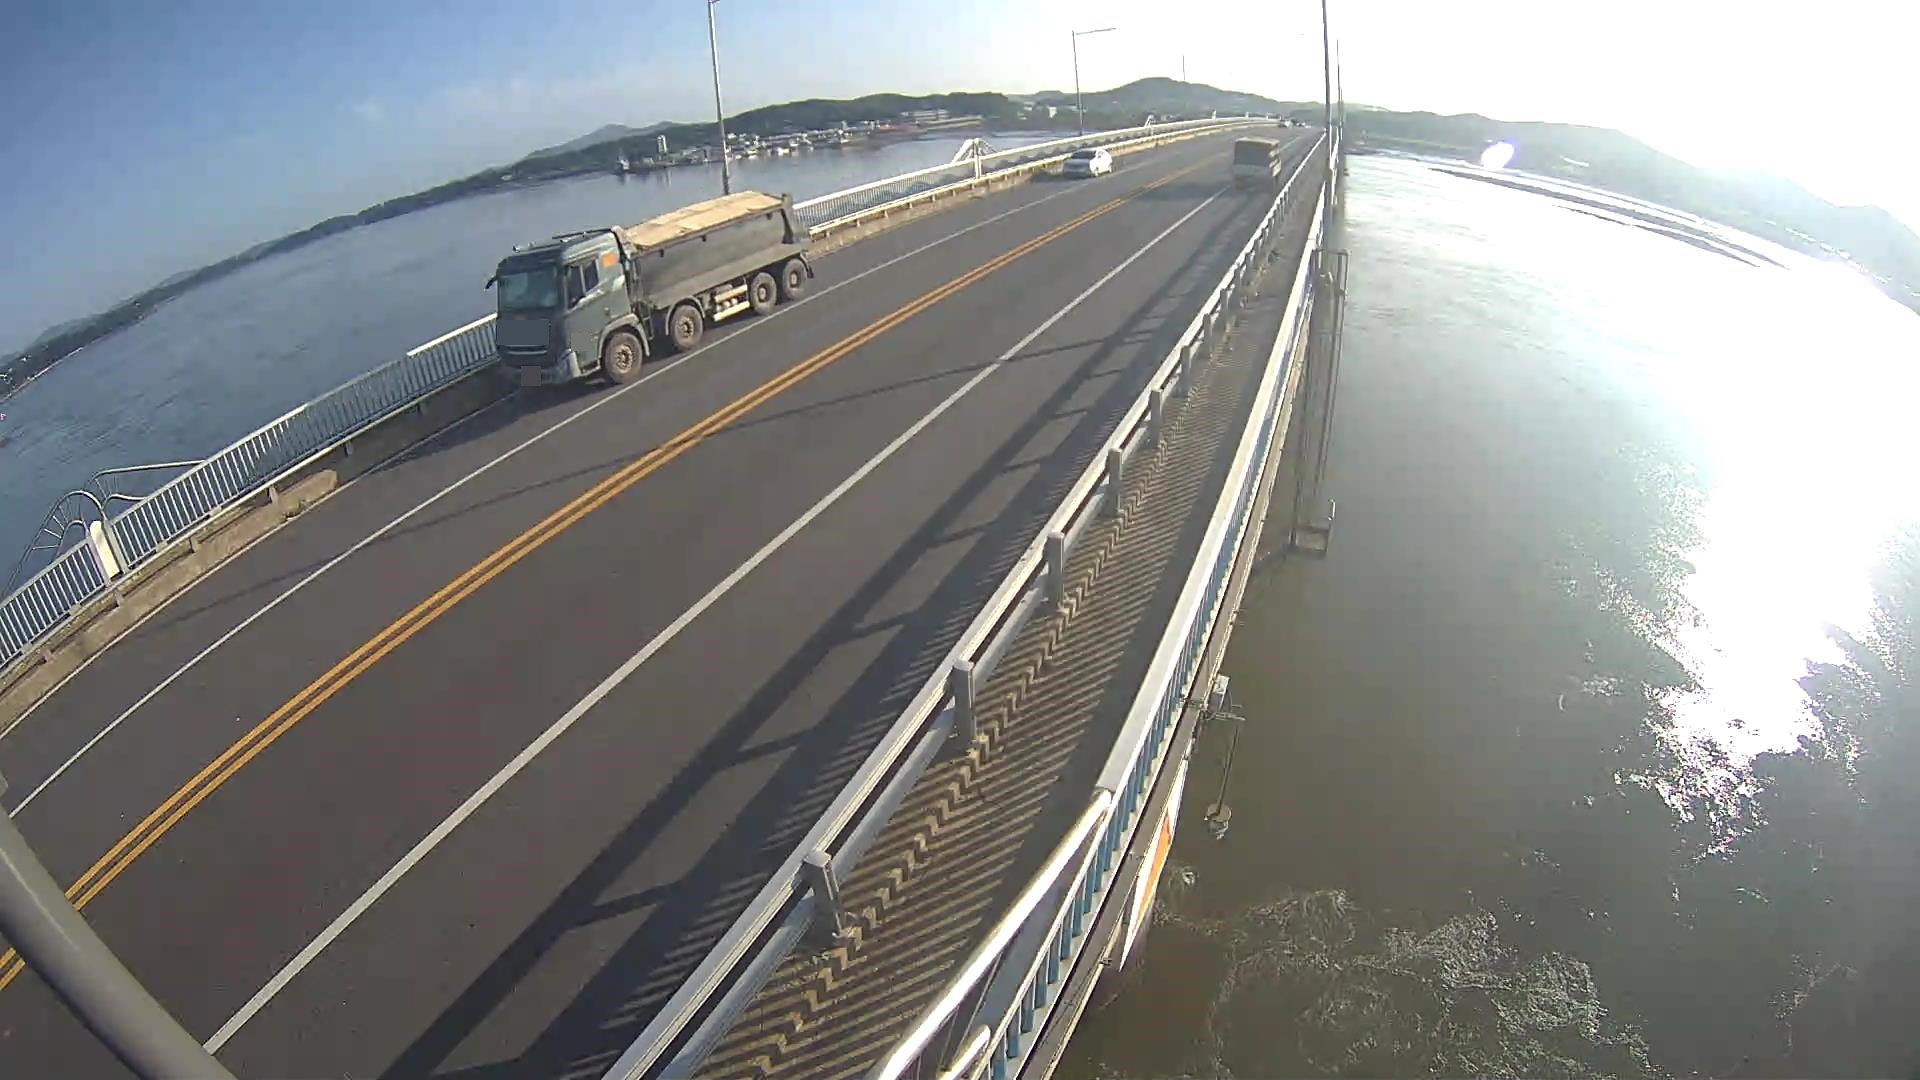정상차량: (485, 190, 814, 385)
